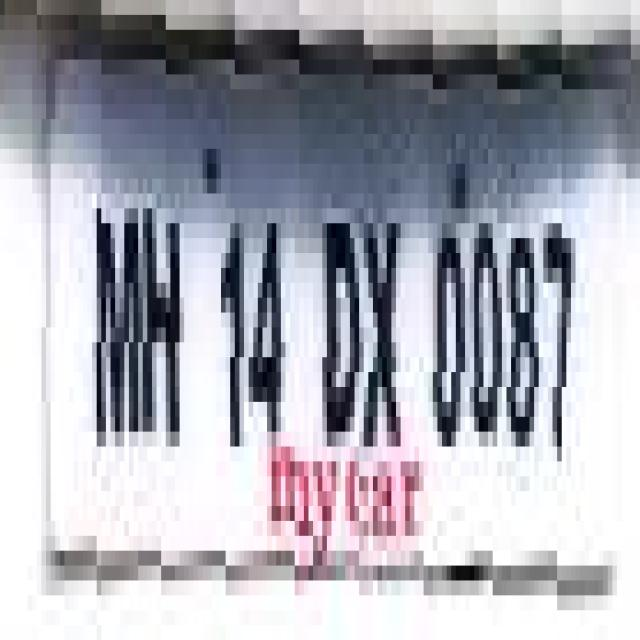license_plate: (27, 44, 640, 565)
